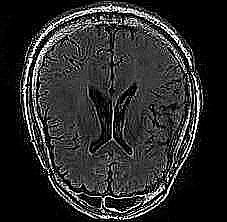Normal_Brain: (2, 2, 227, 222)
